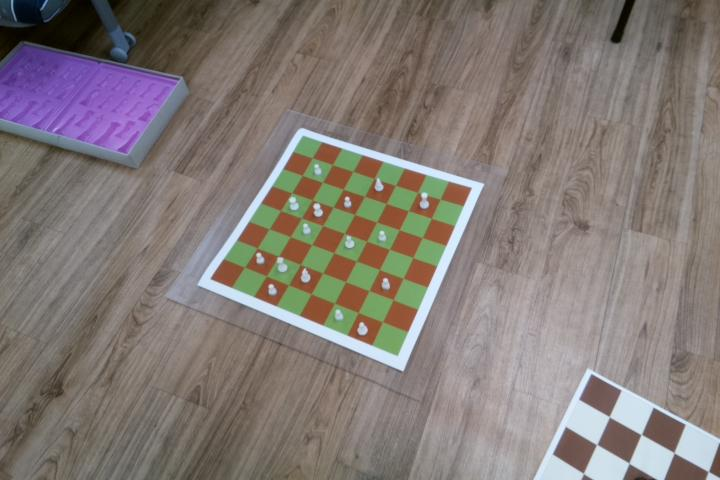chessboard-detect: (210, 135, 472, 356)
